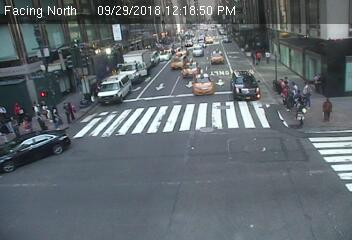car: (1, 129, 72, 172), (116, 48, 151, 84), (227, 68, 263, 102), (97, 74, 132, 102), (191, 72, 216, 97), (180, 61, 201, 80), (170, 50, 188, 70), (209, 50, 225, 64), (189, 42, 205, 56), (144, 51, 159, 64), (160, 50, 170, 60), (204, 36, 215, 43), (197, 33, 204, 39)
